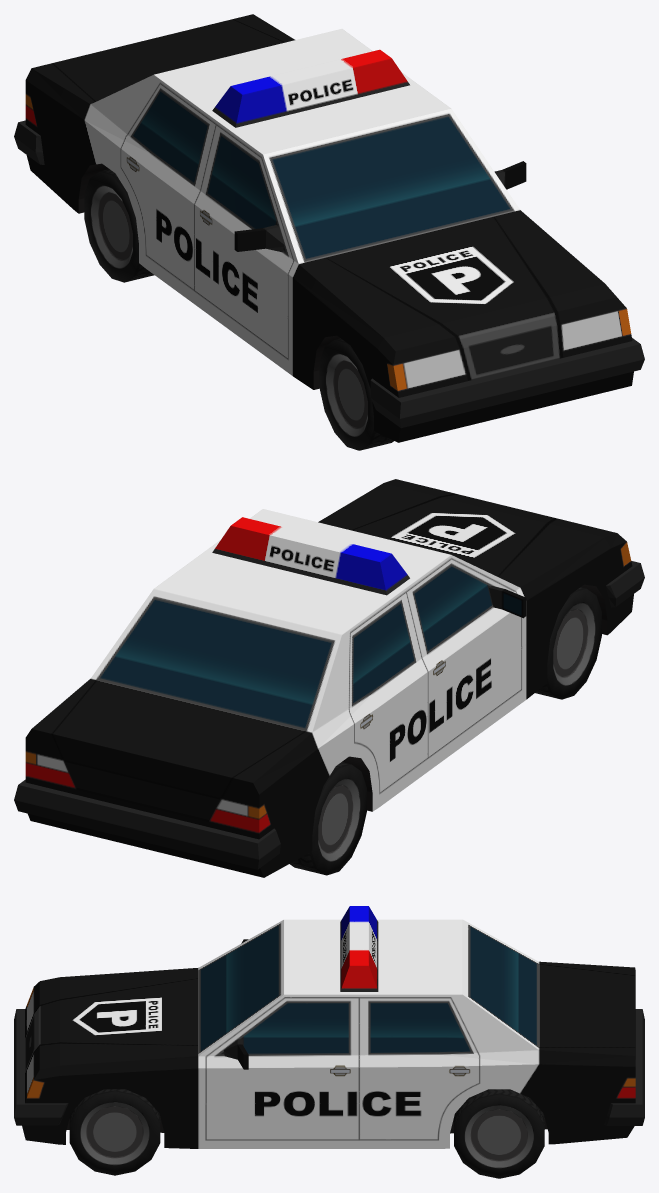
File: 1992 chevrolet impala police car.fbx
3 views of the same model, one above another, from view 1: azimuth 30°, elevation 25°; view 2: azimuth 150°, elevation 25°; view 3: azimuth 270°, elevation 25° (orthographic). The views are drawn at different scales.
Visible parts, largest first — view 1: TrafficPolice, TrafficPoliceWheelRB1, TrafficPoliceWheelRF; view 2: TrafficPolice, TrafficPoliceWheelRB1, TrafficPoliceWheelRF; view 3: TrafficPolice, TrafficPoliceWheelLB1, TrafficPoliceWheelLF.
Part boxes in pixels (box(x1,y1,x2,y2)): TrafficPolice: box(14, 14, 644, 442); TrafficPoliceWheelRB1: box(84, 169, 154, 282); TrafficPoliceWheelRF: box(319, 338, 393, 450); TrafficPolice: box(14, 479, 644, 877); TrafficPoliceWheelRB1: box(290, 762, 366, 875); TrafficPoliceWheelRF: box(535, 587, 601, 699); TrafficPolice: box(14, 906, 644, 1148); TrafficPoliceWheelLB1: box(454, 1089, 544, 1178); TrafficPoliceWheelLF: box(69, 1089, 160, 1175).
Bounding box in the file's own units: 252 × 202 × 584.
